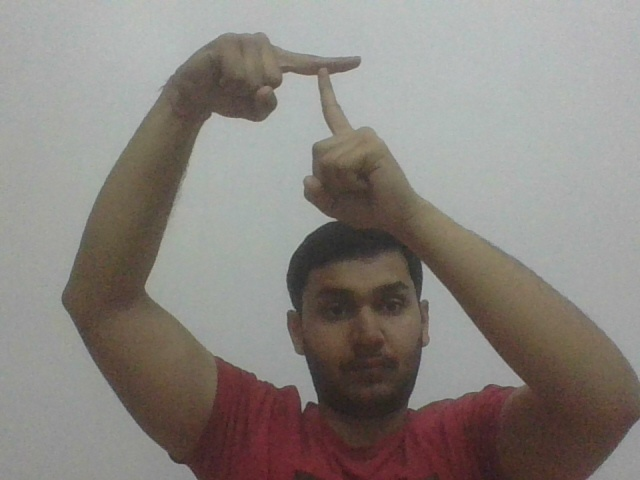T: (288, 47, 371, 127)
